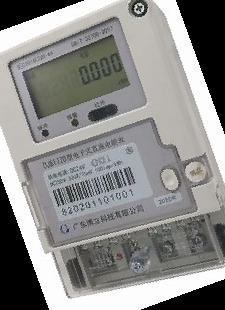digital: (1, 1, 225, 254)
